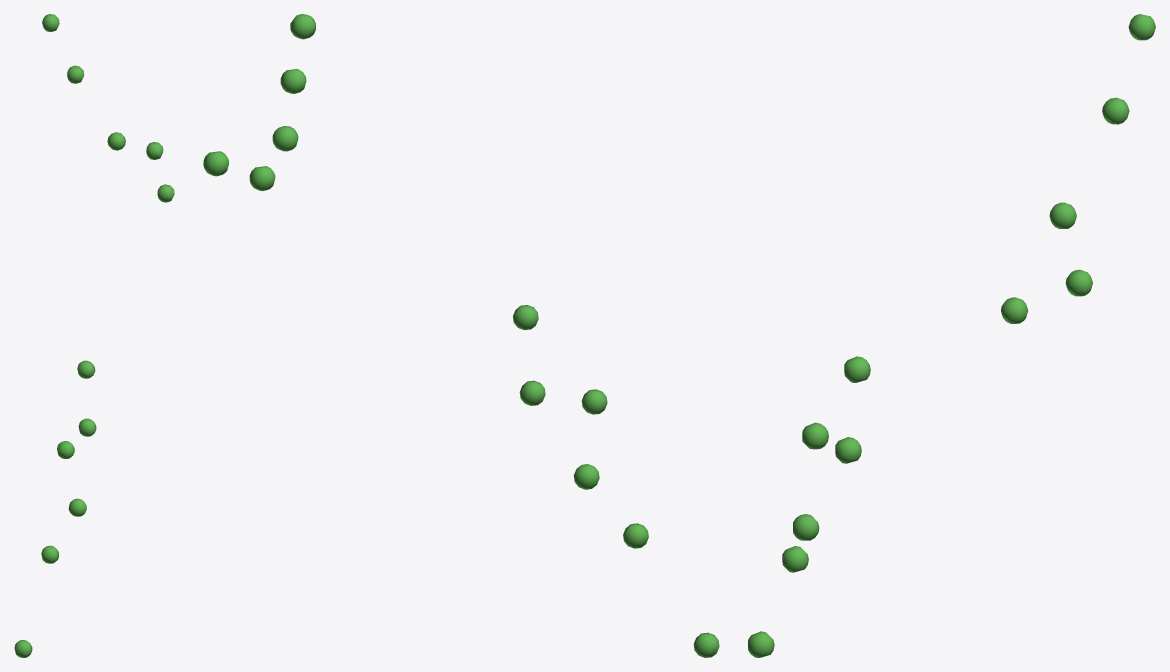
Rendered from linfatico-cubital-nodes-r.glb.
3 views of the same model, side by side, from view 1: azimuth 30°, elevation 25°; view 2: azimuth 150°, elevation 25°; view 3: azimuth 270°, elevation 25° (orthographic). The views are drawn at different scales.
Parts seen in each view (by area): view 1: Cubital nodes.r, Supratrochlear nodes.r; view 2: Cubital nodes.r, Supratrochlear nodes.r; view 3: Cubital nodes.r, Supratrochlear nodes.r.
Part boxes in pixels (x1,y1,x2,y2): Cubital nodes.r: [14, 360, 96, 657]; Supratrochlear nodes.r: [42, 14, 174, 202]; Cubital nodes.r: [513, 305, 719, 657]; Supratrochlear nodes.r: [203, 14, 315, 190]; Cubital nodes.r: [748, 356, 870, 657]; Supratrochlear nodes.r: [1001, 14, 1155, 323].
Bounding box in the file's own units: 0.0411 × 0.0787 × 0.0385.
